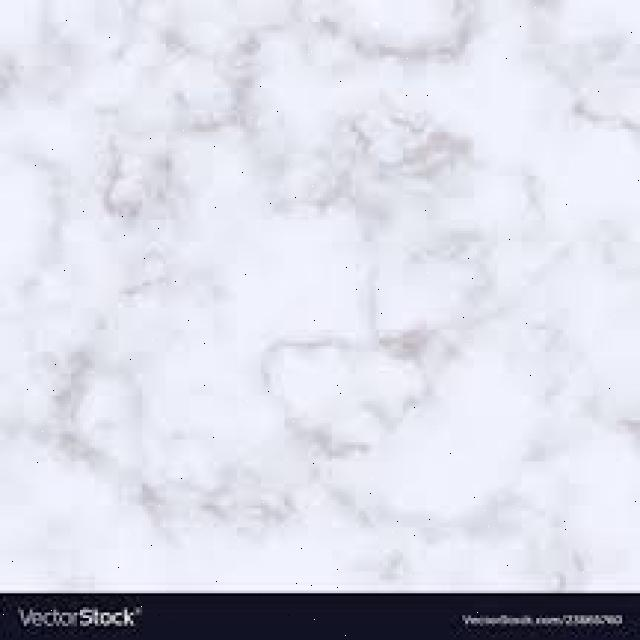Metamorphic: (3, 3, 631, 577)
